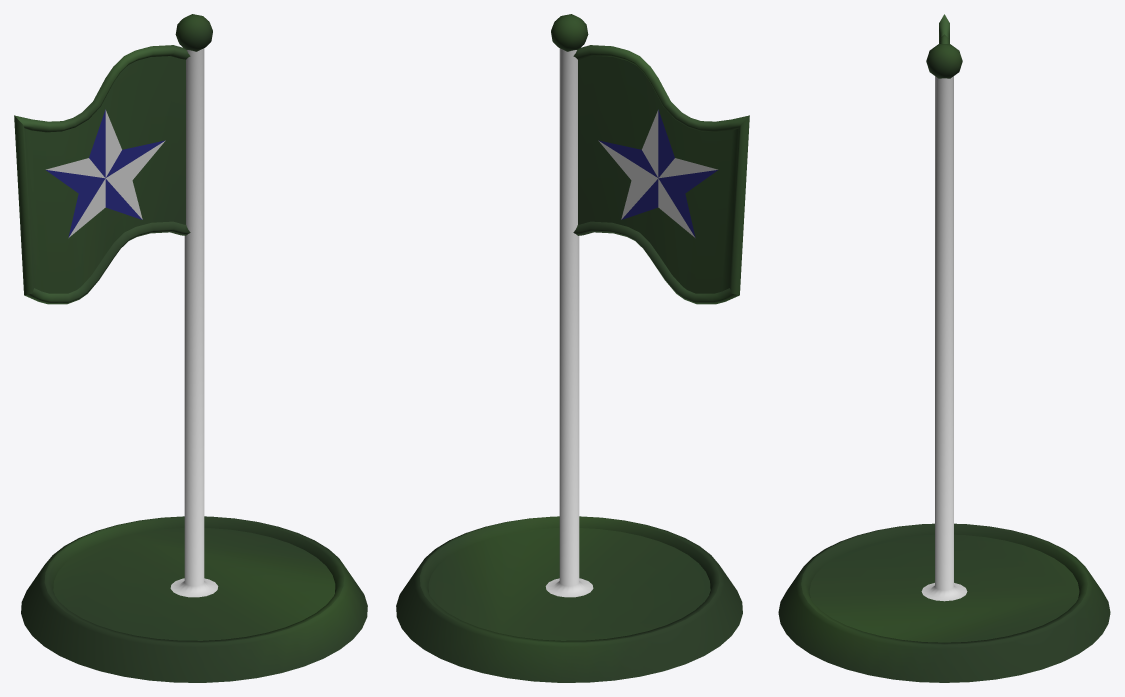
The model's file is flag.fbx.
The picture shows the model from 3 angles, left to right: view 1: azimuth 30°, elevation 25°; view 2: azimuth 150°, elevation 25°; view 3: azimuth 270°, elevation 25°; orthographic projection. The views are drawn at different scales.
Visible parts, largest first — view 1: Cylinder.001, BezierCurve, Circle, Circle.001, Icosphere; view 2: Cylinder.001, BezierCurve, Circle, Circle.001, Icosphere; view 3: Cylinder.001, Circle, Icosphere.
Part boxes in pixels (bbox=[...]): Cylinder.001: bbox=[21, 516, 367, 682]; BezierCurve: bbox=[14, 45, 190, 304]; Circle: bbox=[170, 48, 218, 597]; Circle.001: bbox=[45, 109, 165, 237]; Icosphere: bbox=[175, 14, 212, 51]; Cylinder.001: bbox=[396, 516, 742, 682]; BezierCurve: bbox=[573, 45, 749, 304]; Circle: bbox=[545, 48, 593, 597]; Circle.001: bbox=[598, 109, 718, 237]; Icosphere: bbox=[551, 14, 588, 51]; Cylinder.001: bbox=[778, 523, 1110, 682]; Circle: bbox=[921, 76, 967, 601]; Icosphere: bbox=[926, 44, 962, 78].
Size of the model in its own units: 129 by 222 by 118.
